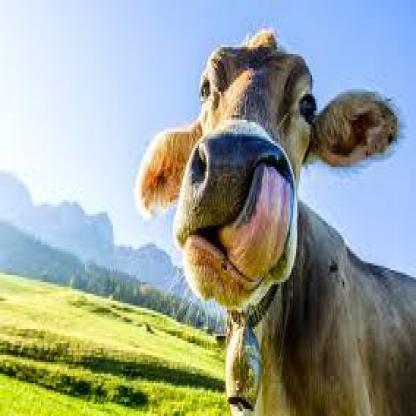cow: (136, 28, 416, 416)
